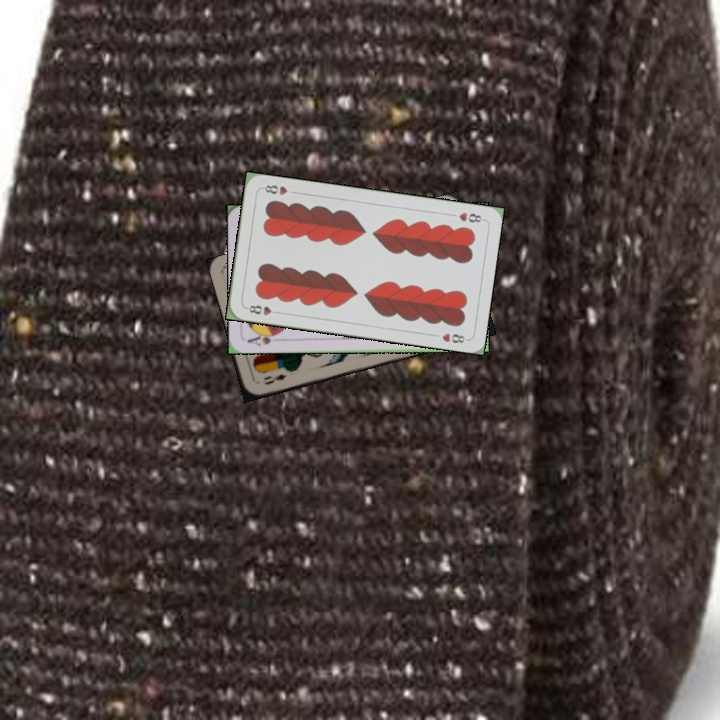EO: (260, 370, 289, 388)
H8: (242, 301, 283, 318), (455, 208, 486, 225)
SA: (243, 329, 284, 349)
